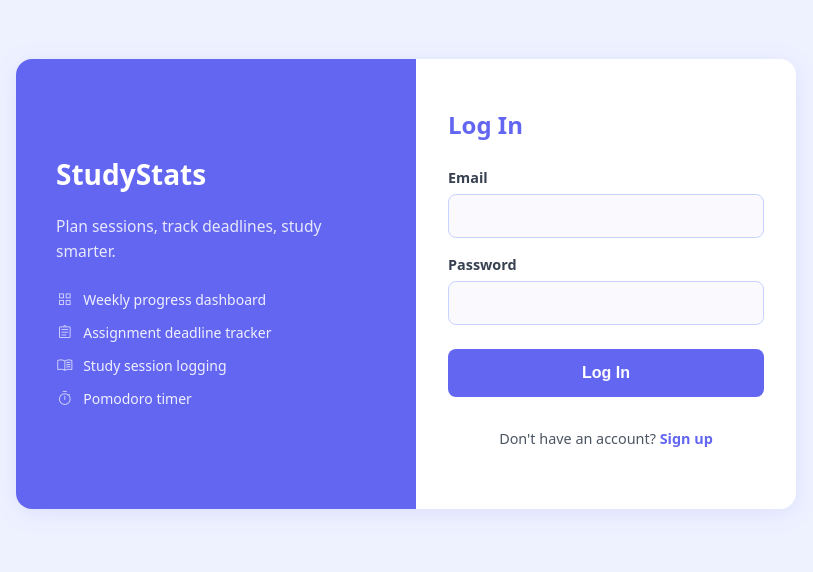
it: Login › shows invalid-credential error with signup link for wrong credentials
Type "new@example.com" into the field labelled "Email". click: (606, 216)
box: [448,194,764,238]
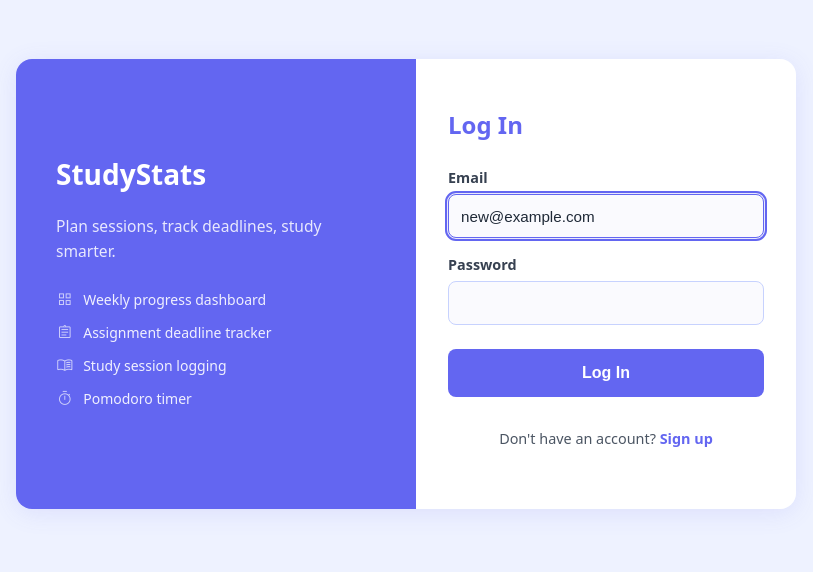
Type "SomePass1!" into the password field labelled "Password". click: (606, 303)
box: [448,281,764,325]
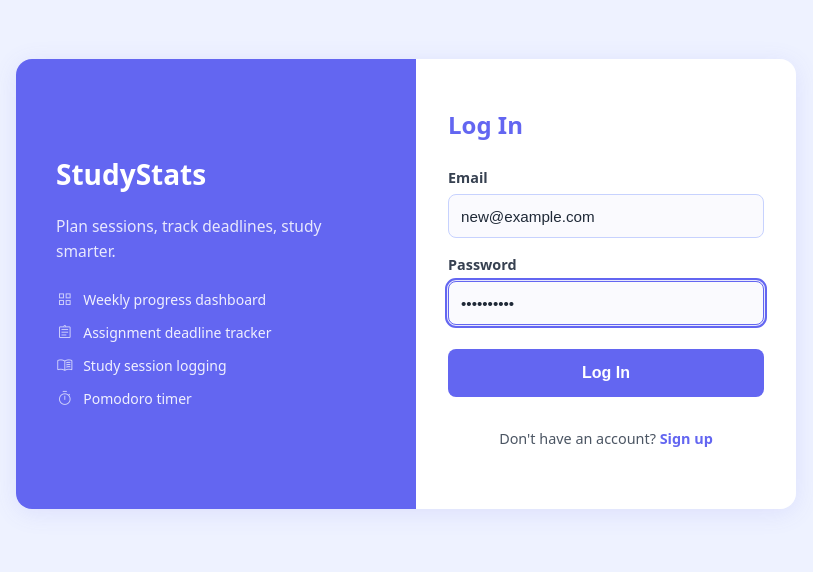
Click the button "Log In". click: (606, 373)
box: [448,349,764,397]
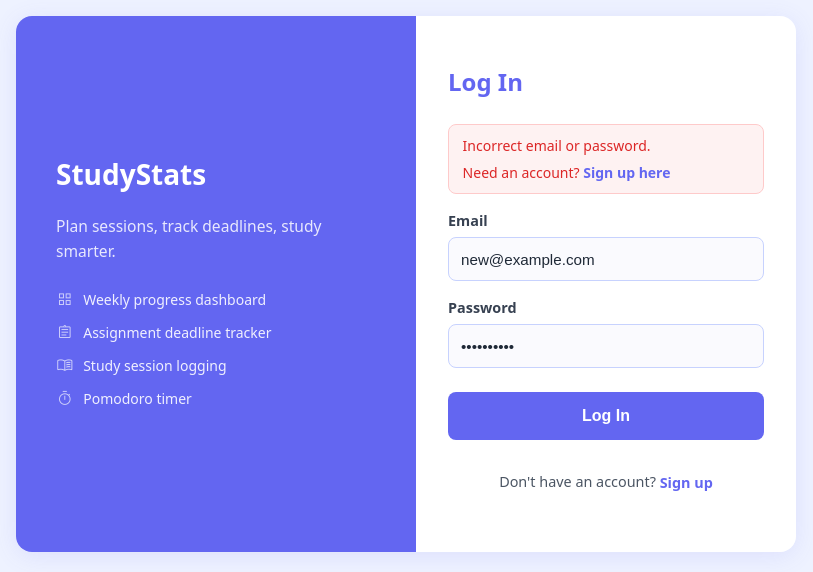
Expected: the text "Incorrect email or password." is shown, [463,136,651,155]
Expected: the link "Sign up here" is shown, [583,163,670,182]
